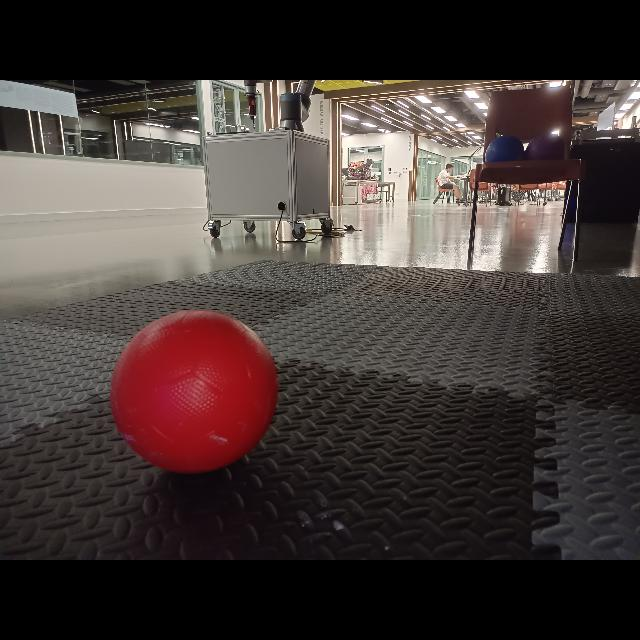B: (485, 136, 527, 164)
P: (526, 134, 570, 164)
R: (105, 308, 282, 472)
